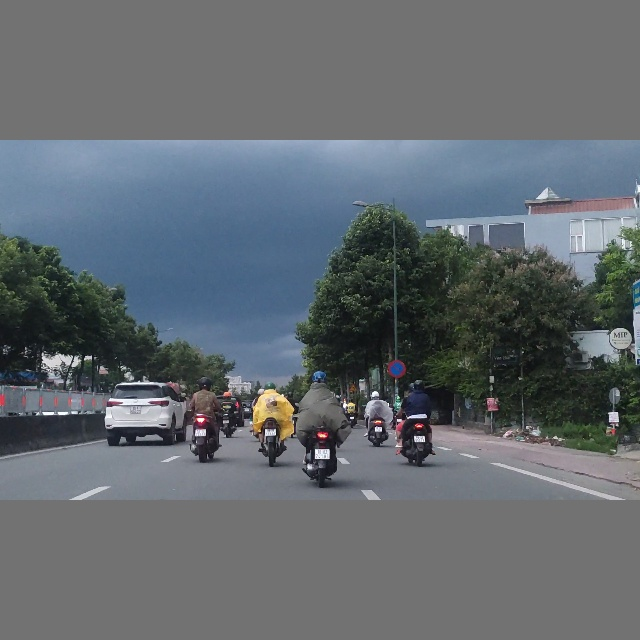P.131a: (388, 360, 406, 378)
W.201a: (349, 384, 357, 391)
